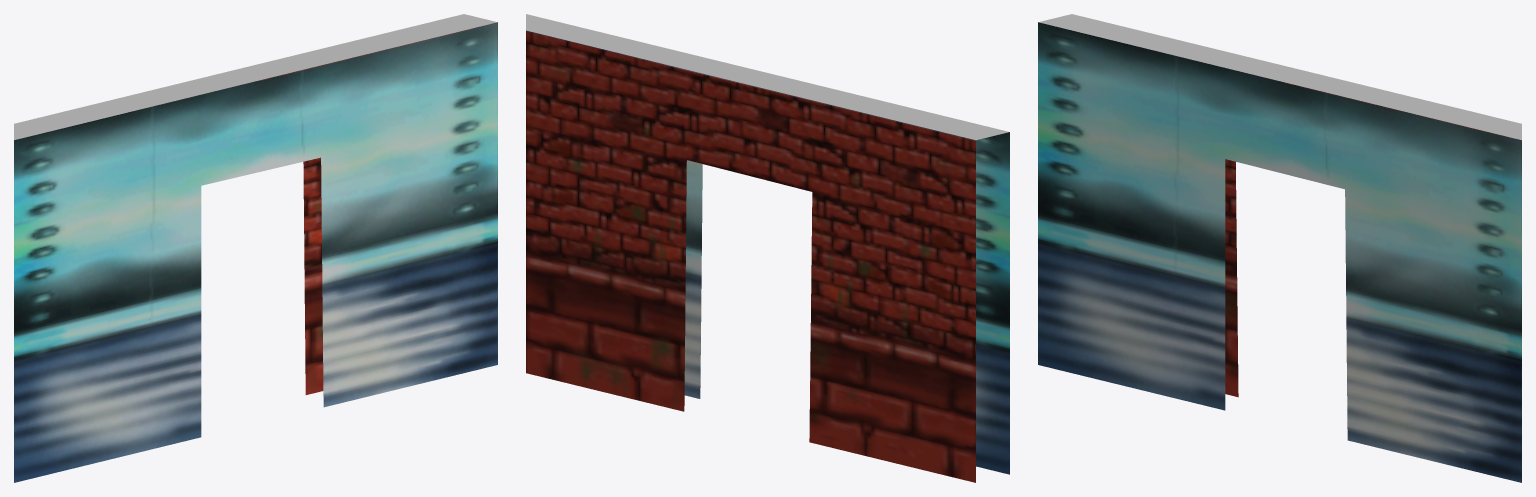
Rendered from Polizei_Wand_K18_2544.glb.
3 renders of one model, left to right at view 1: azimuth 30°, elevation 25°; view 2: azimuth 150°, elevation 25°; view 3: azimuth 330°, elevation 25°, orthographic.
Visible parts, largest first — view 1: pPlaneShape343, polySurfaceShape1103, pPlaneShape342; view 2: pPlaneShape342, pPlaneShape343, polySurfaceShape1103; view 3: pPlaneShape343, polySurfaceShape1103, pPlaneShape342.
Boxes of the visible parts, x1=… form: pPlaneShape343: x1=14, y1=22, x2=497, y2=482; polySurfaceShape1103: x1=14, y1=14, x2=497, y2=140; pPlaneShape342: x1=303, y1=157, x2=323, y2=394; pPlaneShape342: x1=526, y1=30, x2=975, y2=482; pPlaneShape343: x1=684, y1=132, x2=1009, y2=474; polySurfaceShape1103: x1=526, y1=14, x2=1008, y2=140; pPlaneShape343: x1=1038, y1=22, x2=1521, y2=482; polySurfaceShape1103: x1=1038, y1=14, x2=1521, y2=140; pPlaneShape342: x1=1225, y1=159, x2=1238, y2=397.
Size of the model in its own units: 0.5749 by 0.3891 by 0.0348.
Materials: 3 (2 with a texture image).
